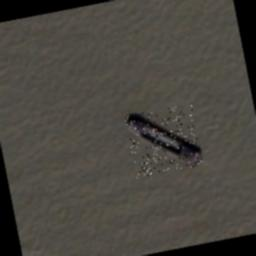boat: (124, 104, 204, 178)
